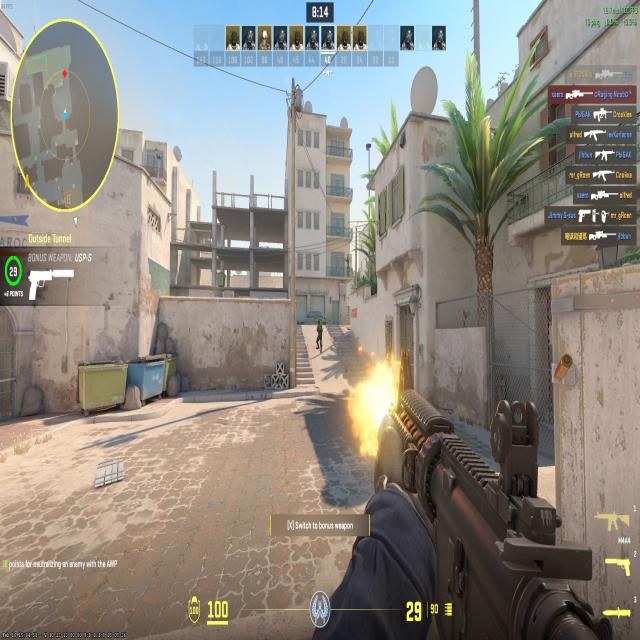player: (315, 316, 324, 354)
